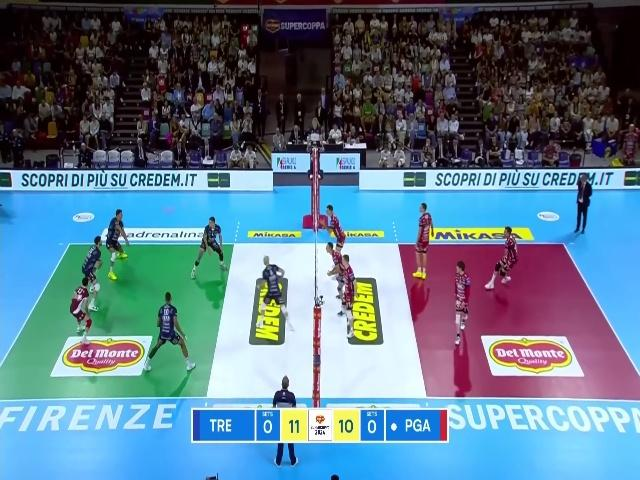volleyball court: (0, 242, 639, 400)
